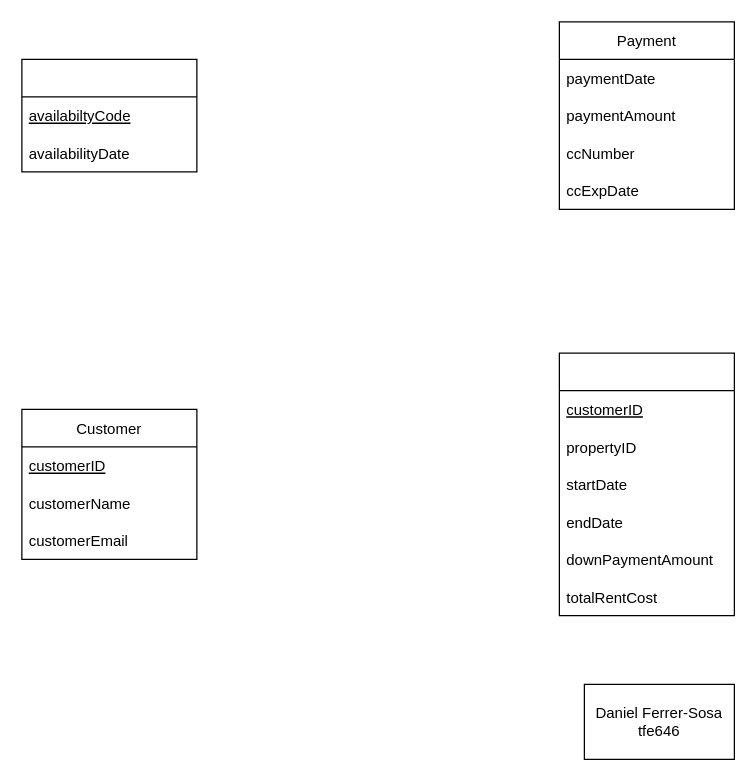
This 756x781 diagram has some shape labels left out. The box of each missing label's shape, as (x1, y1, x2, y2) in pixels:
Property: (21, 58, 197, 172)
Rental: (558, 352, 734, 616)
